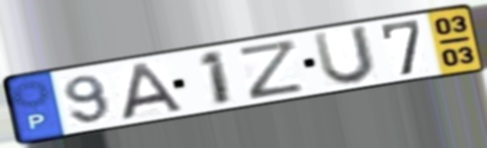1: (198, 48, 239, 107)
7: (378, 18, 423, 77)
9: (61, 72, 112, 125)
A: (119, 60, 185, 122)
U: (309, 23, 379, 87)
Z: (235, 36, 308, 102)
